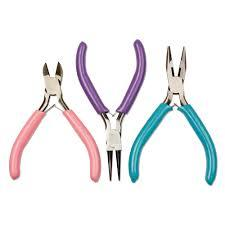pliers: (126, 44, 217, 185), (8, 60, 101, 182)
